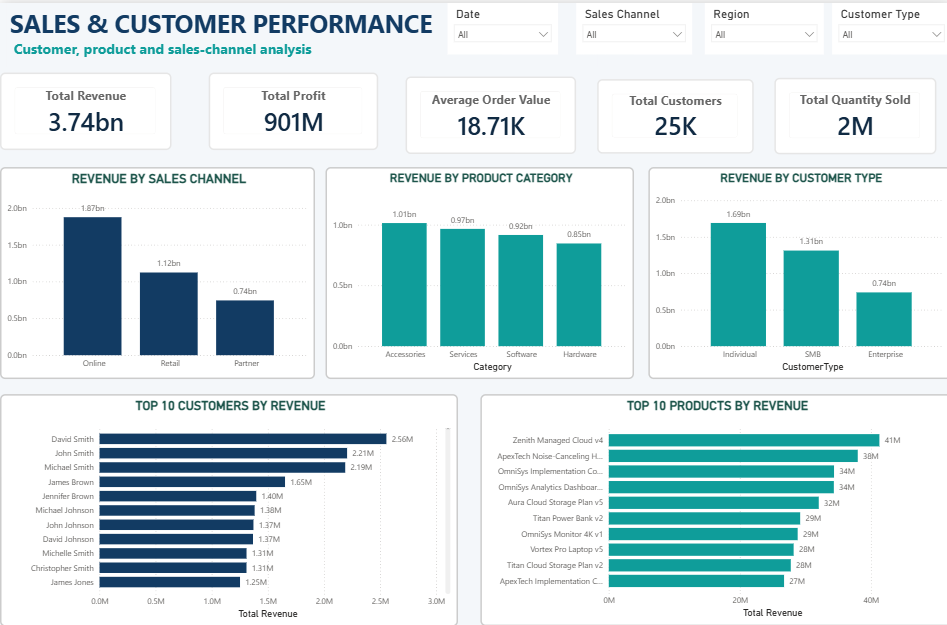

The dashboard page shown, as its layout file describes it:
{"tool":"powerbi","page":{"name":"SALES & CUSTOMER PERFORMANCE","canvas":[1450,950],"ordinal":1},"visuals":[{"type":"textbox","box":[10,0,900,100],"z":0},{"type":"slicer","fields":{"Values":["CALENDAR.Date"]},"box":[681.7,0,168.3,78.3],"z":1000},{"type":"slicer","fields":{"Values":["REGIONS.Region"]},"box":[1073.3,0,181.7,78.3],"z":2000},{"type":"slicer","fields":{"Values":["FINANCIAL TRANSACTION.SalesChannel"]},"box":[878.3,0,176.7,78.3],"z":3000},{"type":"slicer","fields":{"Values":["FINANCIAL TRANSACTION.CustomerType"]},"box":[1268.3,0,181.7,78.3],"z":4000},{"type":"cardVisual","fields":{"Data":["MEASURE TABLE.Average Order Value"]},"box":[618.3,111.7,260,118.3],"z":5000},{"type":"cardVisual","fields":{"Data":["MEASURE TABLE.Total Revenue"]},"box":[0,106.7,261.7,118.3],"z":6000},{"type":"cardVisual","fields":{"Data":["MEASURE TABLE.Total Profit"]},"box":[318.3,106.7,258.3,118.3],"z":7000},{"type":"cardVisual","fields":{"Data":["MEASURE TABLE.Total Quantity Sold"]},"box":[1180,113.3,246.7,116.7],"z":8000},{"type":"cardVisual","fields":{"Data":["MEASURE TABLE.Total Customers"]},"box":[910,115,238.3,113.3],"z":9000},{"type":"clusteredBarChart","title":"TOP 10 PRODUCTS BY REVENUE","fields":{"Y":["MEASURE TABLE.Total Revenue"],"Category":["PRODUCTS.ProductName"]},"box":[731.7,596.7,718.3,353.3],"z":10000},{"type":"clusteredColumnChart","title":"REVENUE BY CUSTOMER TYPE","fields":{"Category":["CUSTOMER.CustomerType"],"Y":["MEASURE TABLE.Total Revenue"]},"box":[988.3,250,461.7,323.3],"z":11000},{"type":"clusteredColumnChart","title":"REVENUE BY PRODUCT CATEGORY","fields":{"Category":["PRODUCTS.Category"],"Y":["MEASURE TABLE.Total Revenue"]},"box":[496.7,250,470,323.3],"z":12000},{"type":"barChart","title":"TOP 10 CUSTOMERS BY REVENUE","fields":{"Category":["CUSTOMER.CustomerName"],"Y":["MEASURE TABLE.Total Revenue"]},"box":[0,596.7,698,354],"z":13000},{"type":"clusteredColumnChart","title":"REVENUE BY SALES CHANNEL","fields":{"Y":["MEASURE TABLE.Total Revenue"],"Category":["FINANCIAL TRANSACTION.SalesChannel"]},"box":[0,250,480,323.3],"z":14000}]}

Visuals, with their boxes in screenshot pixels (x1, y1, x2, y2), scaled from the page's 1450x950 canvas onto the 947x625 screenshot:
textbox: rect(7, 0, 594, 66)
slicer - CALENDAR.Date: rect(445, 0, 555, 52)
slicer - REGIONS.Region: rect(701, 0, 820, 52)
slicer - FINANCIAL TRANSACTION.SalesChannel: rect(574, 0, 689, 52)
slicer - FINANCIAL TRANSACTION.CustomerType: rect(828, 0, 946, 52)
cardVisual - MEASURE TABLE.Average Order Value: rect(404, 73, 574, 151)
cardVisual - MEASURE TABLE.Total Revenue: rect(0, 70, 171, 148)
cardVisual - MEASURE TABLE.Total Profit: rect(208, 70, 377, 148)
cardVisual - MEASURE TABLE.Total Quantity Sold: rect(771, 75, 932, 151)
cardVisual - MEASURE TABLE.Total Customers: rect(594, 76, 750, 150)
"TOP 10 PRODUCTS BY REVENUE" clusteredBarChart: rect(478, 393, 946, 624)
"REVENUE BY CUSTOMER TYPE" clusteredColumnChart: rect(645, 164, 946, 377)
"REVENUE BY PRODUCT CATEGORY" clusteredColumnChart: rect(324, 164, 631, 377)
"TOP 10 CUSTOMERS BY REVENUE" barChart: rect(0, 393, 456, 624)
"REVENUE BY SALES CHANNEL" clusteredColumnChart: rect(0, 164, 313, 377)
